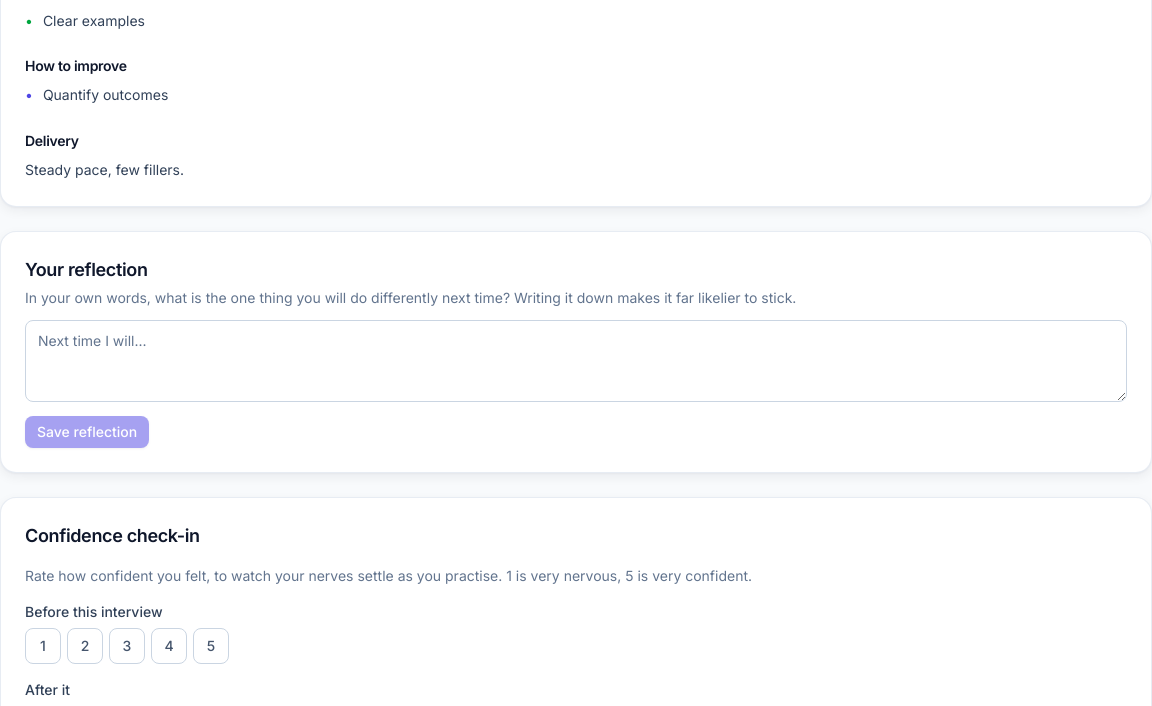
Results › saves a reflection note
(page scrolled)
Type "Give a specific example next time." into the text box named "Your reflection". click: (576, 361)
box: [25,320,1127,402]
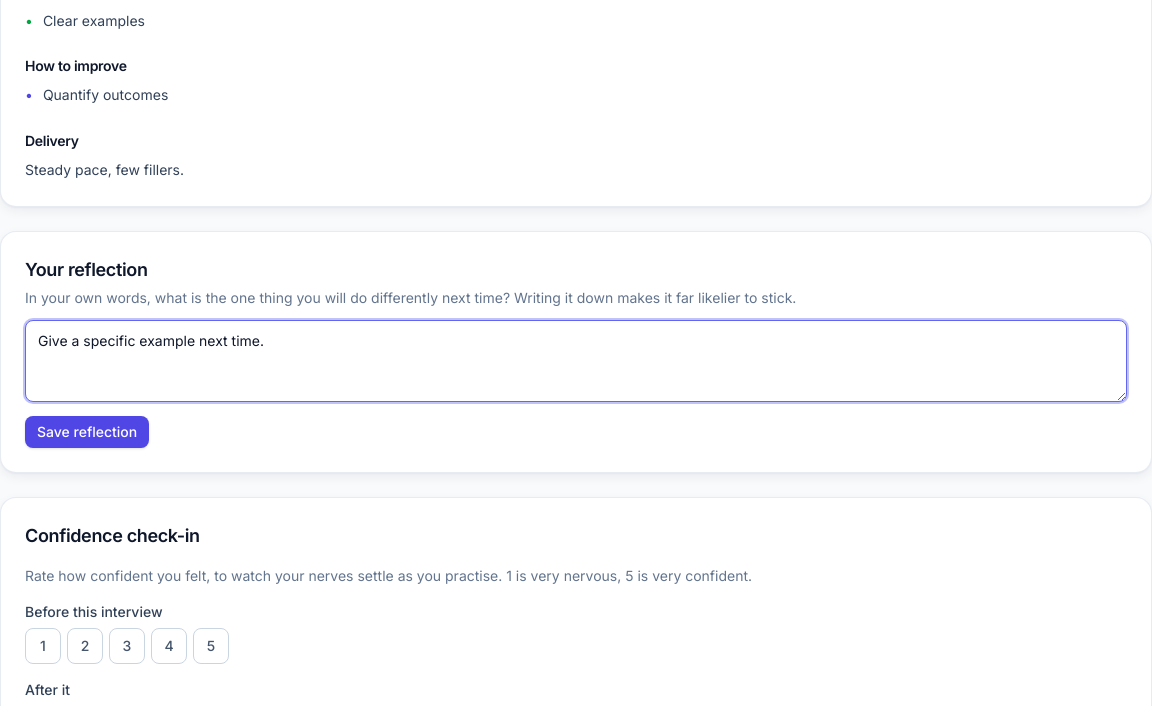
Click the button "Save reflection". click: (87, 432)
box: [25,416,149,448]
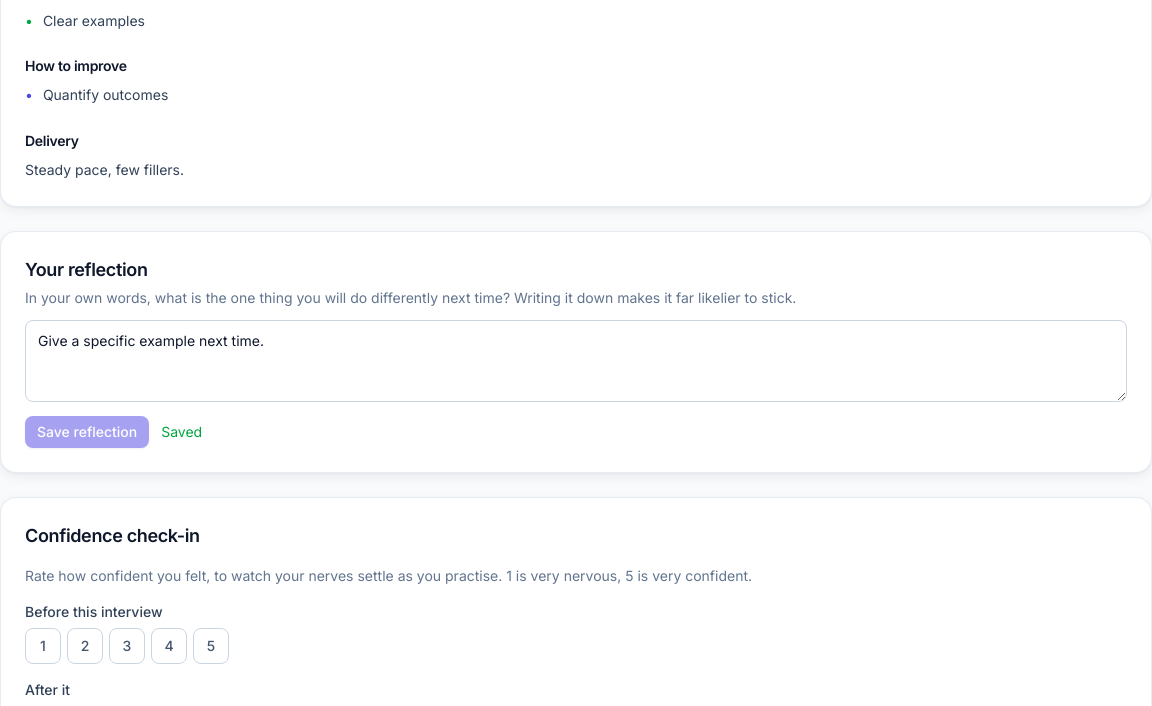
Now the text "Saved" is shown, box [161,422,202,442]
